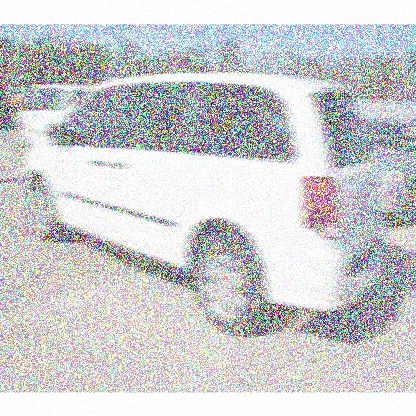Vehicle: (21, 74, 388, 342)
